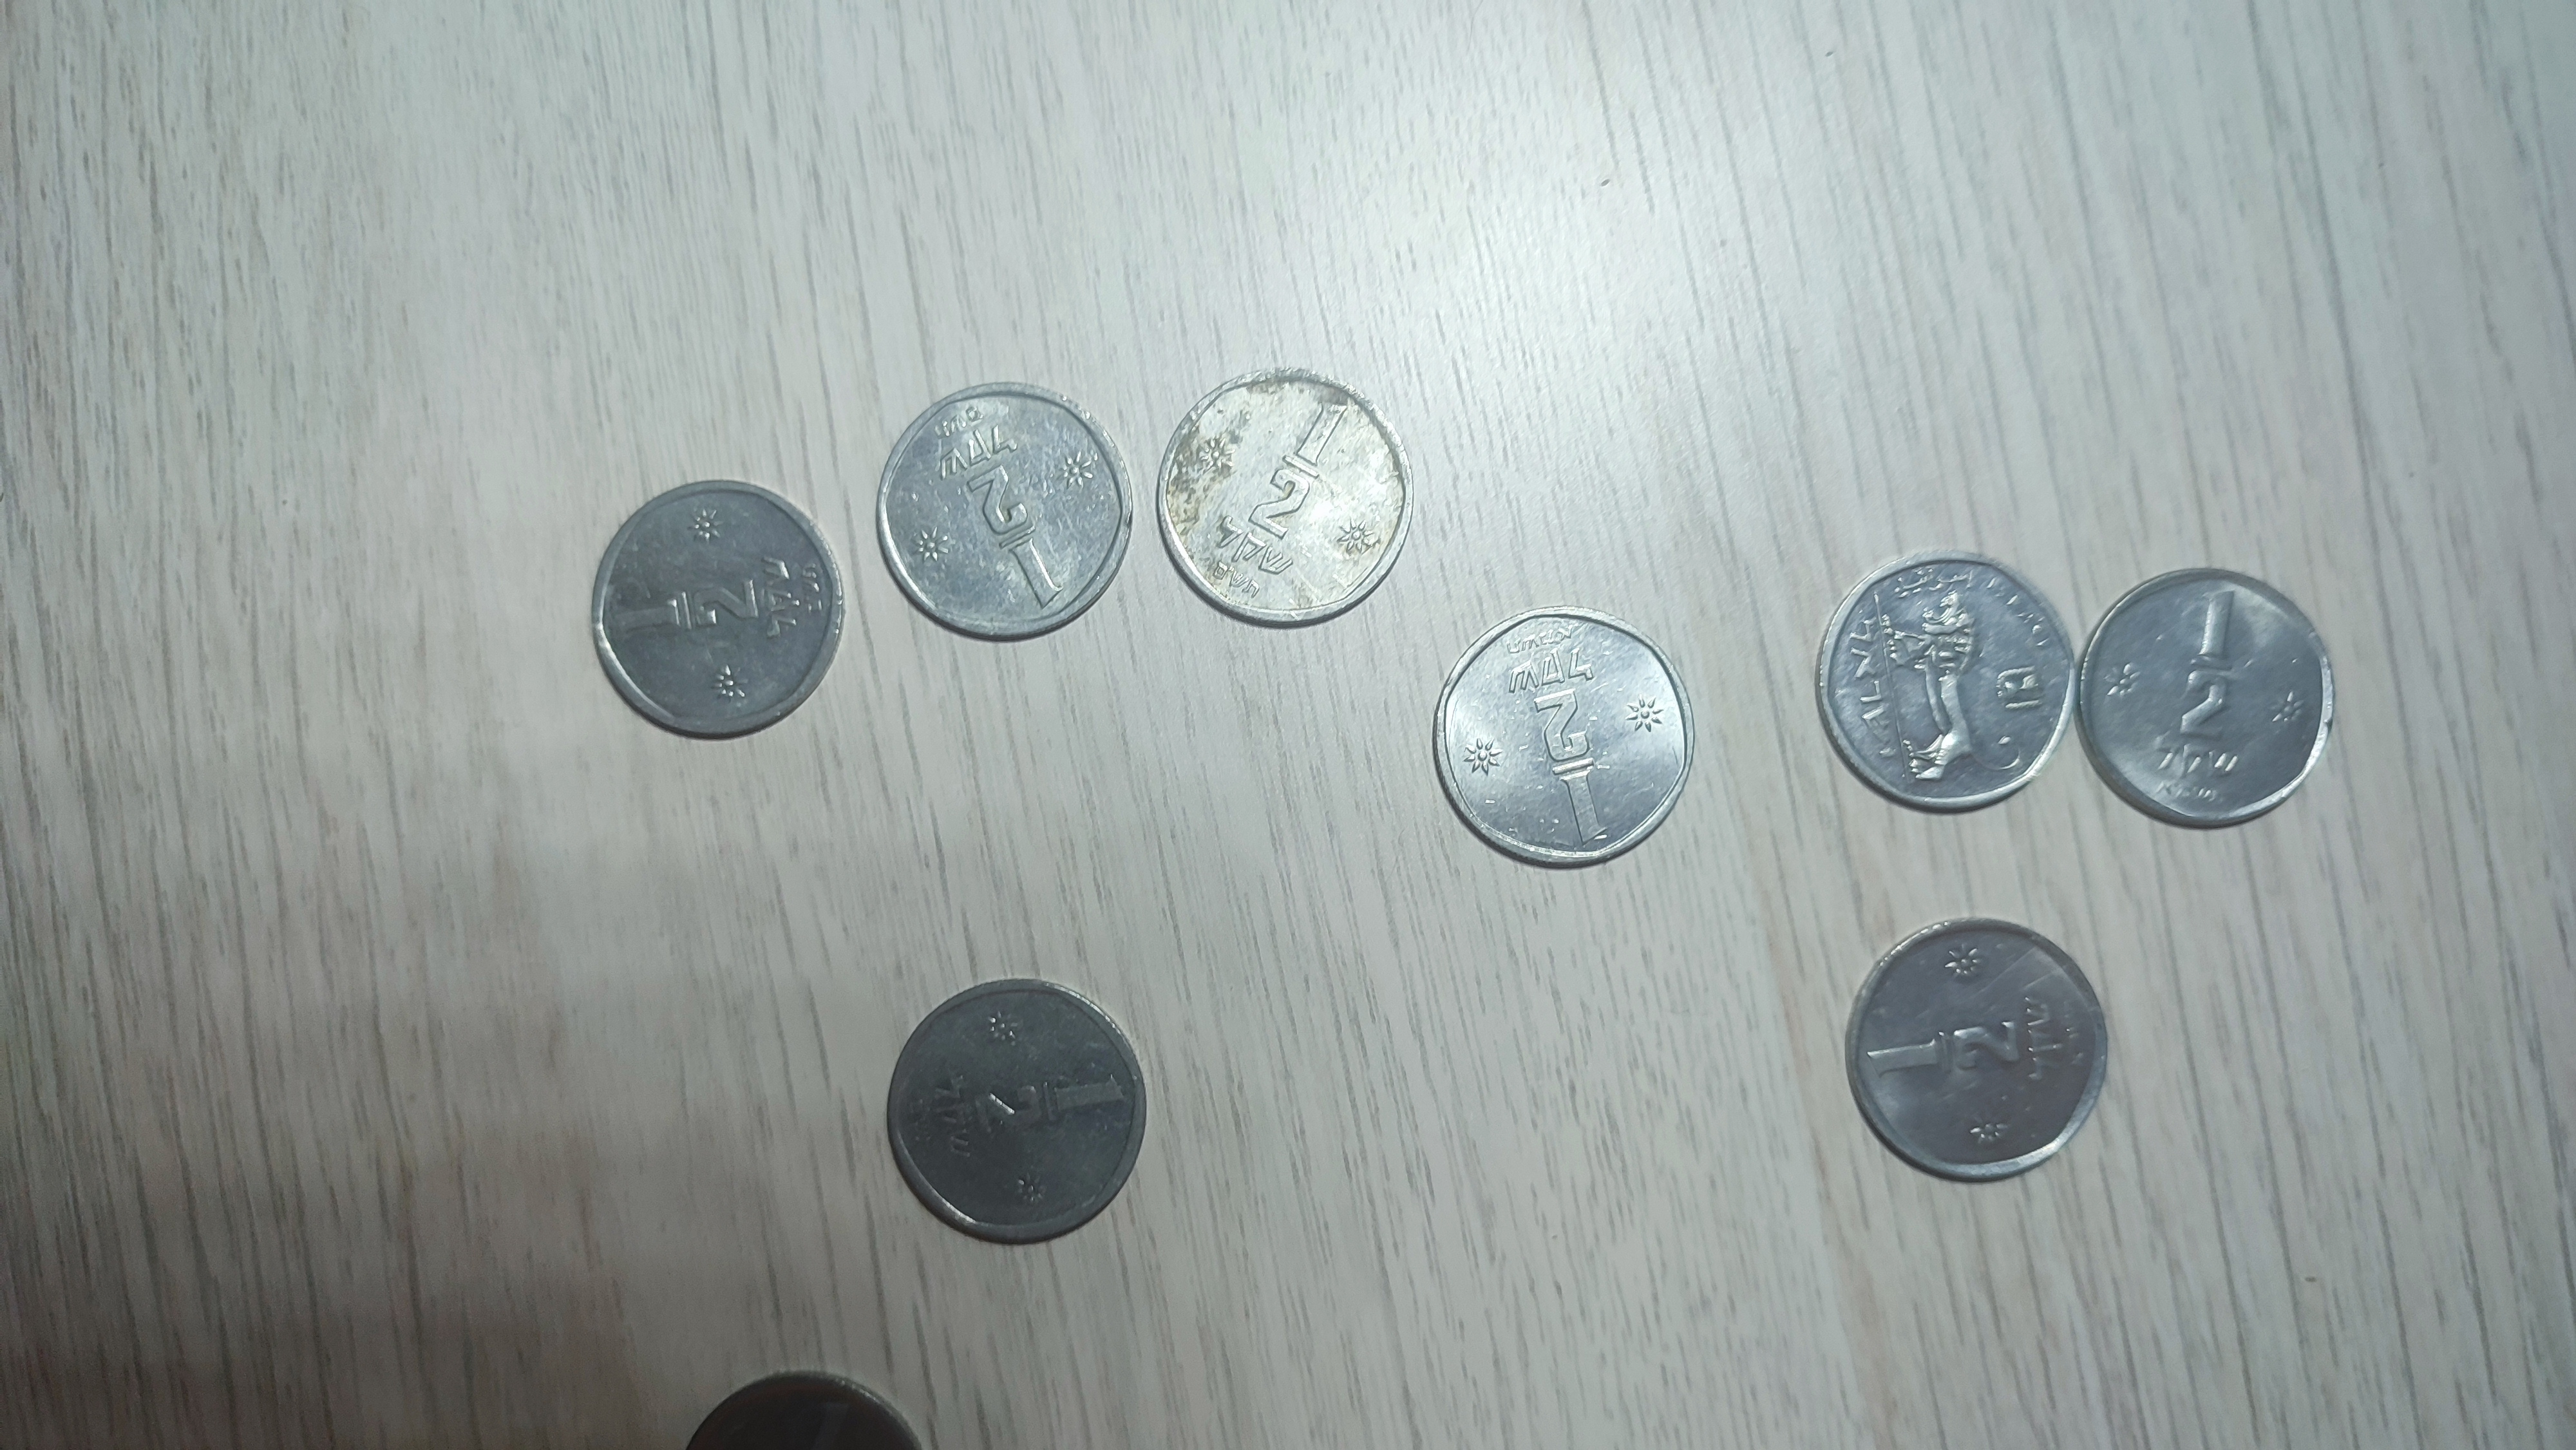1/2 old sheqel: (1155, 364, 1419, 630), (586, 476, 840, 744), (874, 382, 1134, 644)
